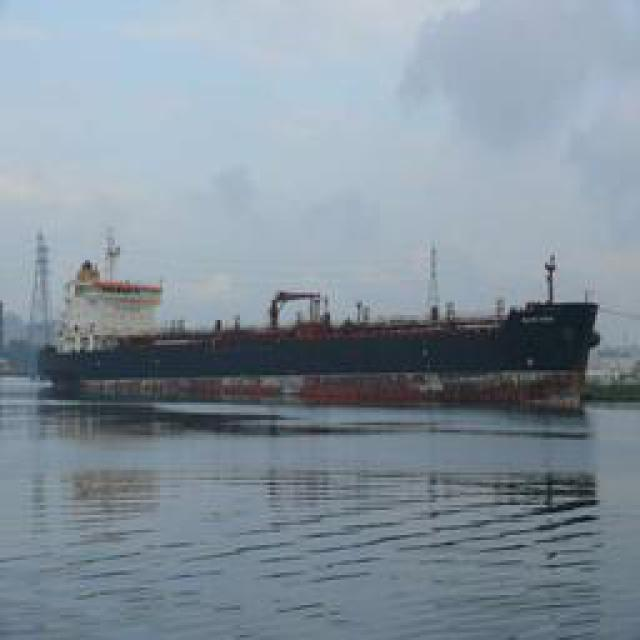Ship: (49, 275, 599, 388)
